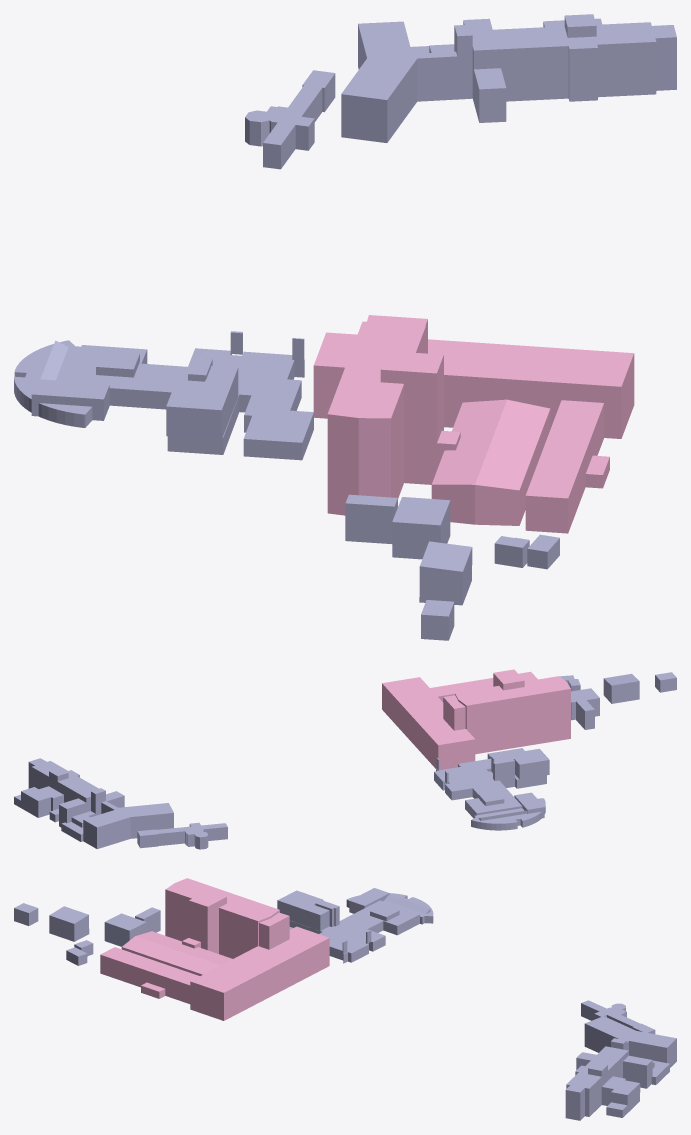
The model's file is CCSPT-MSA.gltf.
3 renders of one model, top to bottom at view 1: azimuth 30°, elevation 25°; view 2: azimuth 150°, elevation 25°; view 3: azimuth 270°, elevation 25°, orthographic. The views are drawn at different scales.
Visible parts, largest first — view 1: Edificis, Masa 1; view 2: Edificis, Masa 1; view 3: Masa 1, Edificis.
Part boxes in pixels (x1=…): Edificis: x1=14, y1=14, x2=676, y2=640; Masa 1: x1=313, y1=315, x2=634, y2=533; Edificis: x1=14, y1=672, x2=676, y2=849; Masa 1: x1=382, y1=669, x2=570, y2=770; Masa 1: x1=100, y1=878, x2=329, y2=1020; Edificis: x1=14, y1=888, x2=676, y2=1120.
Size of the model in its own units: 1061 by 142 by 1358.
